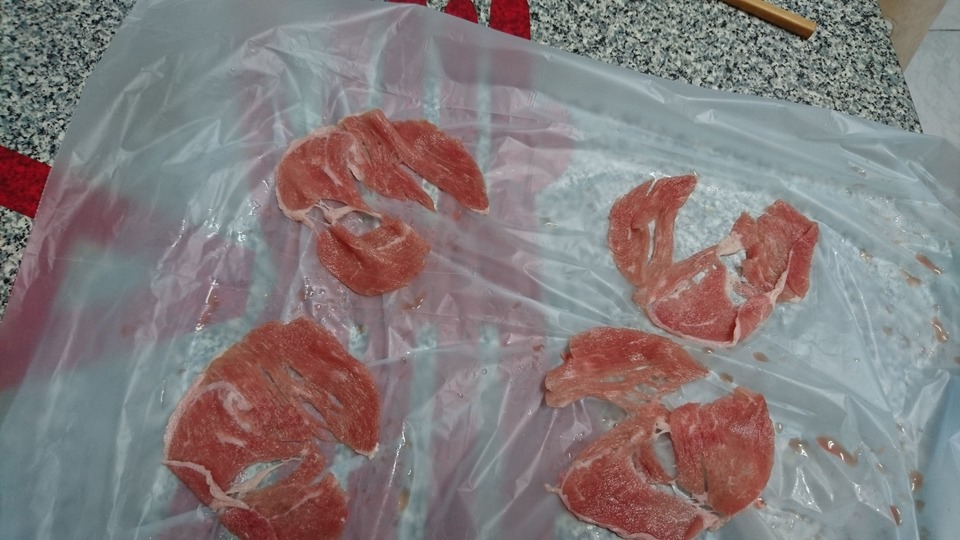restructured meat: (546, 328, 788, 525), (150, 328, 382, 532), (268, 118, 511, 304), (597, 172, 810, 338)
